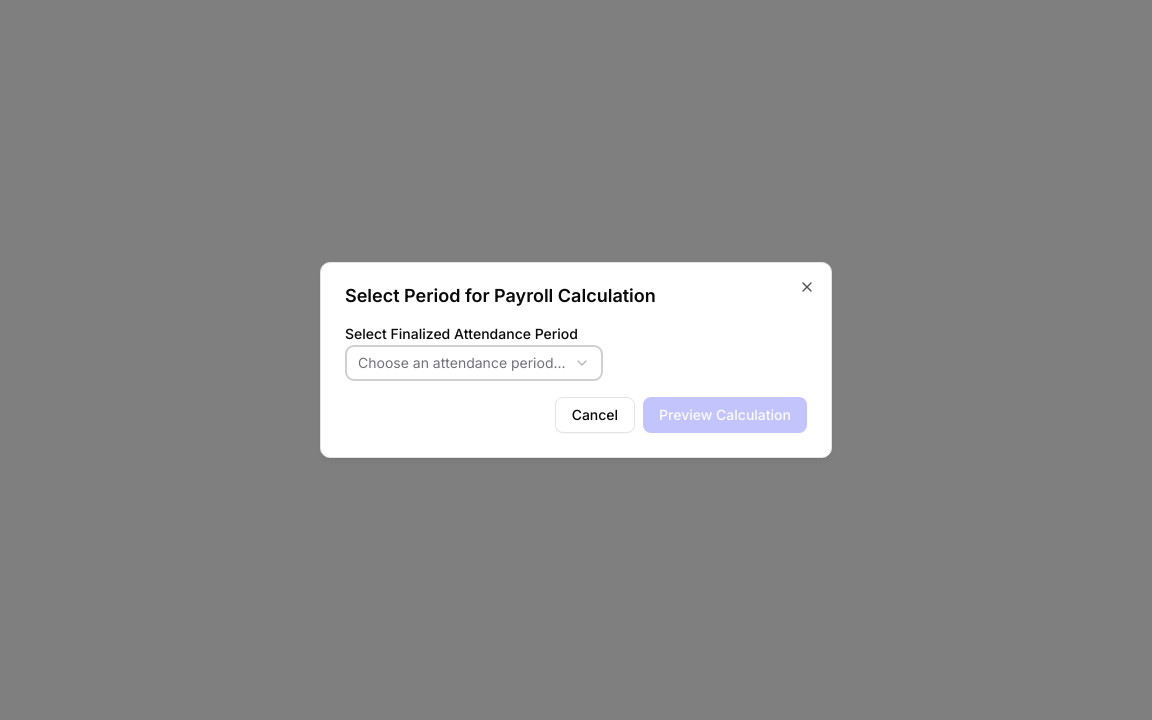
it: PayrollCalculationModal › Period Selection Step › should validate eligibility when period is selected
Note: Select a period
Step 1. Click the dropdown → (474, 363), box top-left (345, 345), bottom-right (603, 381)
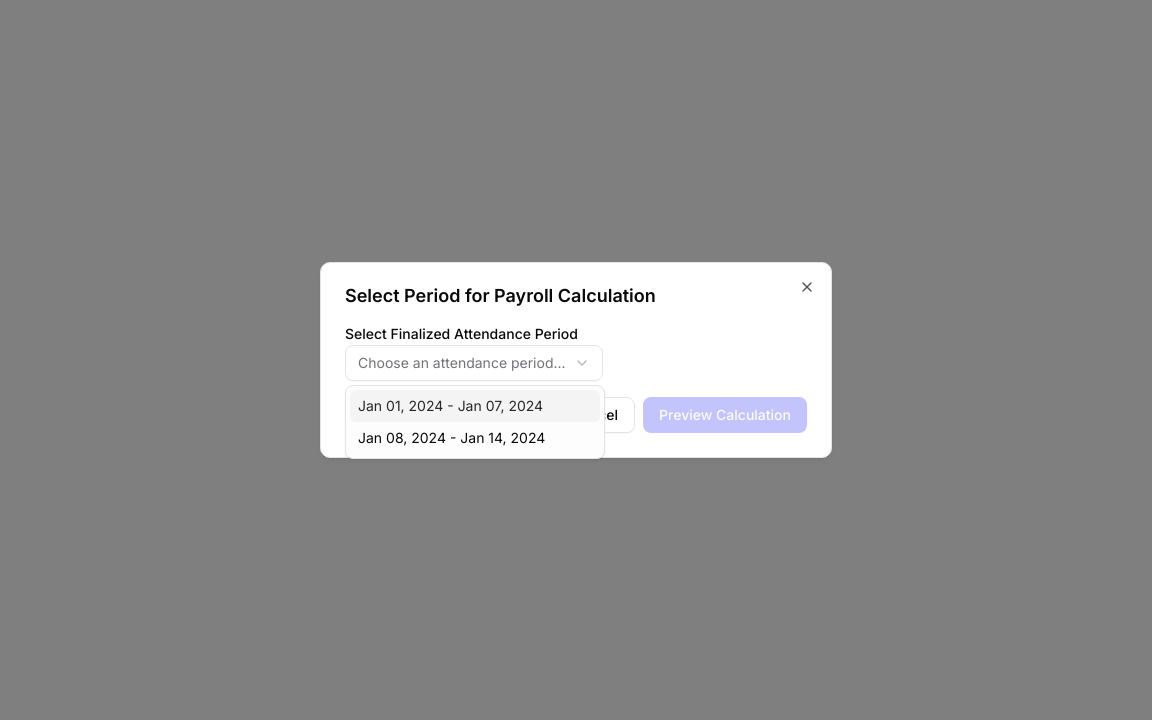
Step 2. Click the option "Jan 01, 2024 - Jan 07, 2024" → (475, 406), box top-left (350, 390), bottom-right (600, 422)
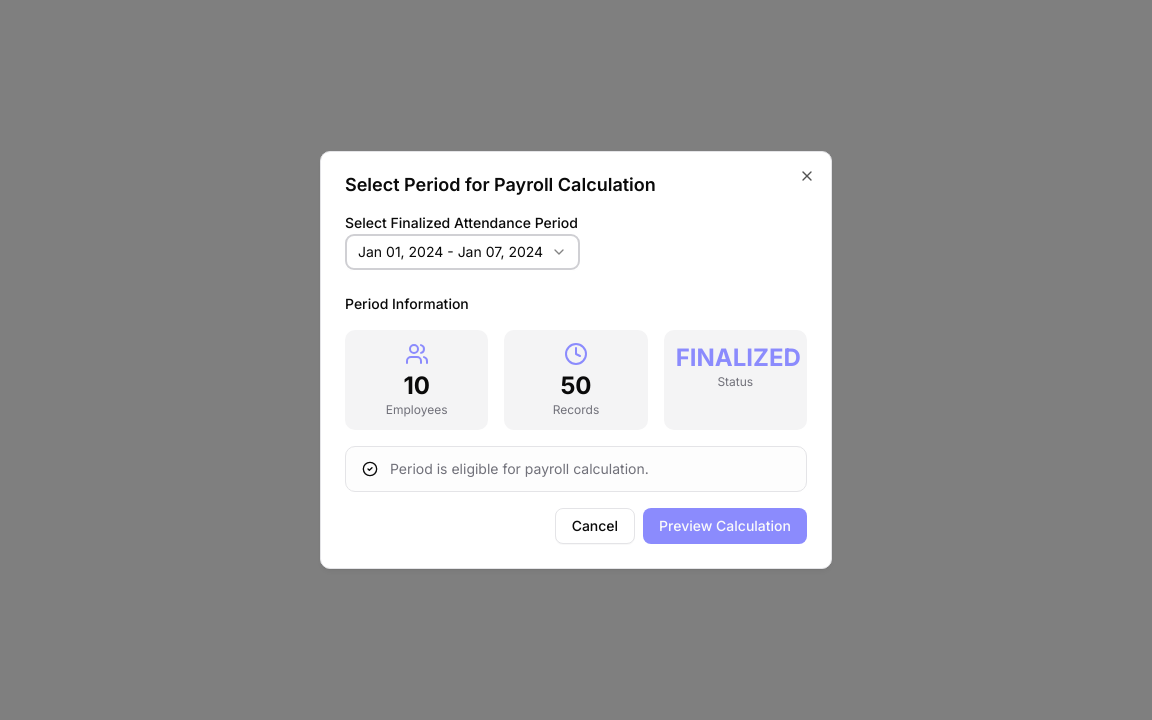
Expected: the text "10" is shown, top-left (403, 371), bottom-right (430, 400)
Expected: the text "50" is shown, top-left (560, 371), bottom-right (592, 400)
Expected: the text "Period is eligible for payroll calculation." is shown, top-left (390, 460), bottom-right (649, 477)
